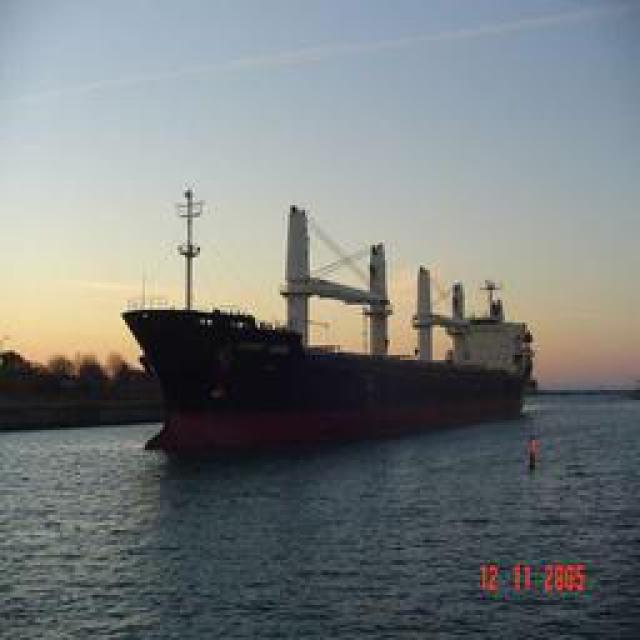Ship: (121, 203, 539, 451)
